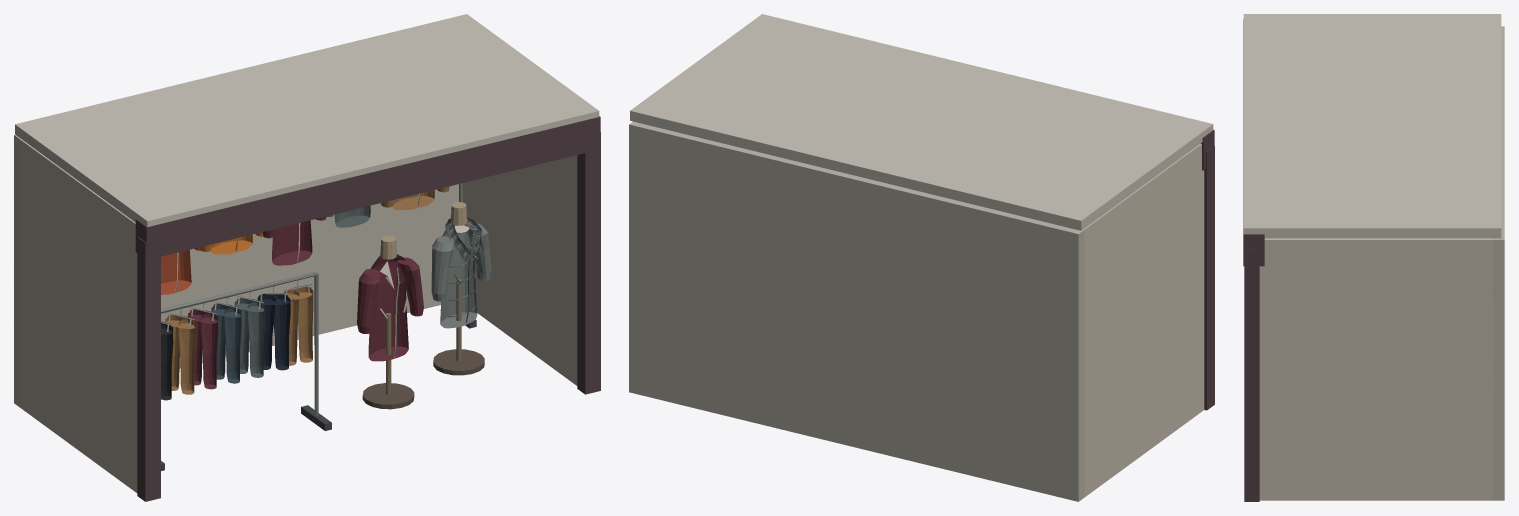
The model's file is outerwear.glb.
3 views of the same model, side by side, from view 1: azimuth 30°, elevation 25°; view 2: azimuth 150°, elevation 25°; view 3: azimuth 270°, elevation 25° (orthographic). The views are drawn at different scales.
Visible parts, largest first — view 1: outerwear; view 2: outerwear; view 3: outerwear.
Boxes of the visible parts, <box> form: outerwear: <box>14,14,600,501</box>; outerwear: <box>629,14,1214,501</box>; outerwear: <box>1243,14,1504,501</box>.
Bounding box in the file's own units: 5.26 × 3.1 × 2.69.
